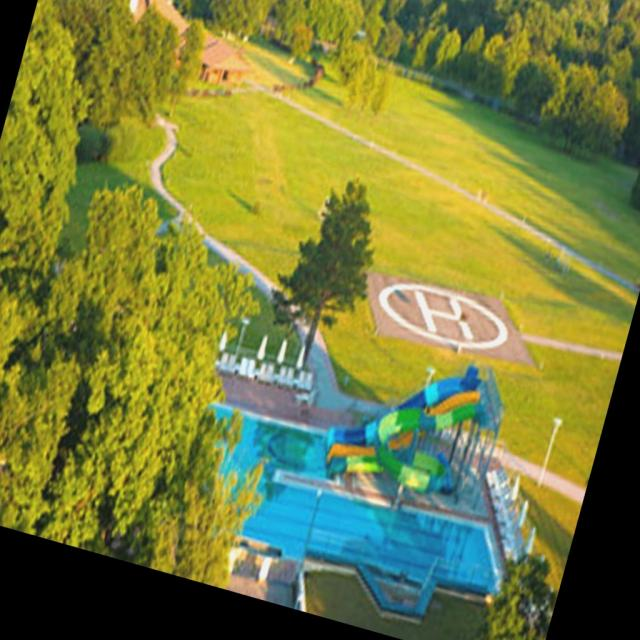helipad: (372, 274, 512, 352)
